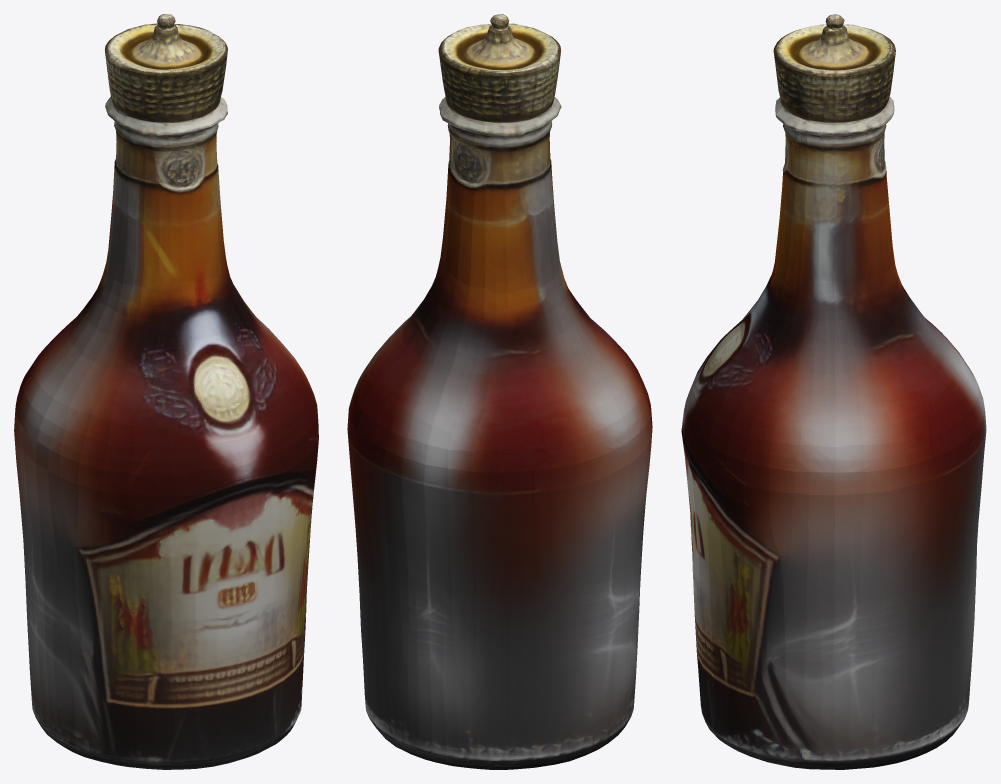
Rendered from basi-wine.glb.
3 views of the same model, side by side, from view 1: azimuth 30°, elevation 25°; view 2: azimuth 150°, elevation 25°; view 3: azimuth 270°, elevation 25° (orthographic).
Visible parts, largest first — view 1: world; view 2: world; view 3: world.
Boxes of the visible parts, x1,y1,x2,y2 form: world: [14, 14, 318, 769]; world: [347, 14, 652, 769]; world: [681, 14, 986, 769].
Bounding box in the file's own units: 0.3902 × 1 × 0.3938.
Materials: 1 (1 with a texture image).
